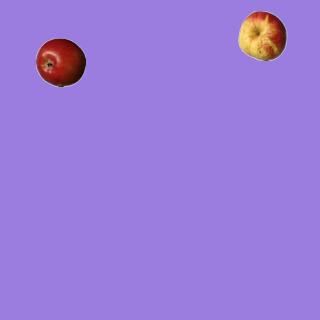Apple Braeburn: (35, 37, 85, 87)
Apple Red Yellow 1: (237, 10, 287, 60)
